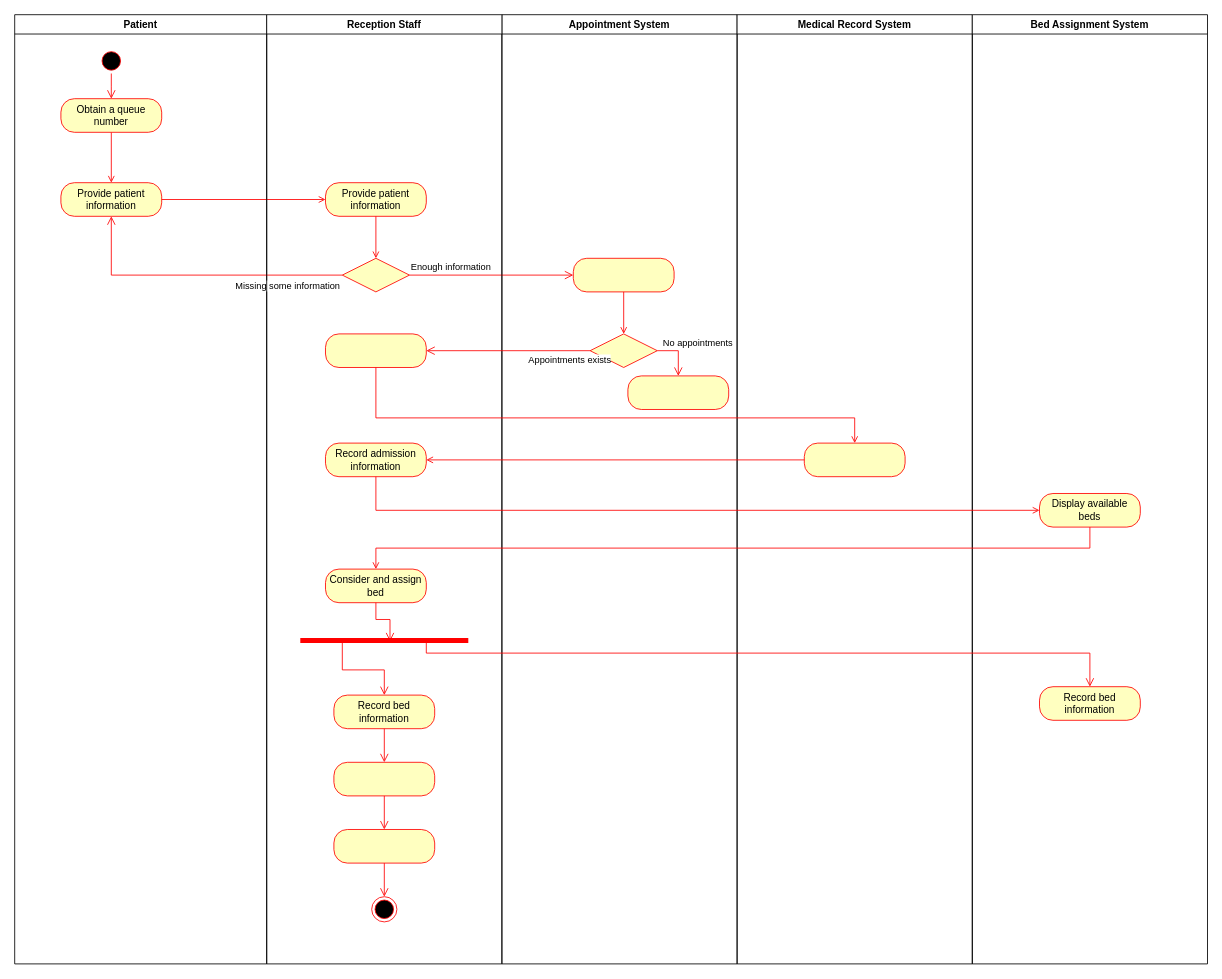
Image size: 1222x979. Some labels were removed from this diagram. The centre of each missing label's shape, as x and y in pixels:
Confirm appointment: (375,350)
Create or update medical records: (854,459)
Guide patient to schedule one: (678,392)
Provide information to patient: (384,778)
Update medical record with check-in completion: (384,846)
Verify appointment existence: (623,274)
